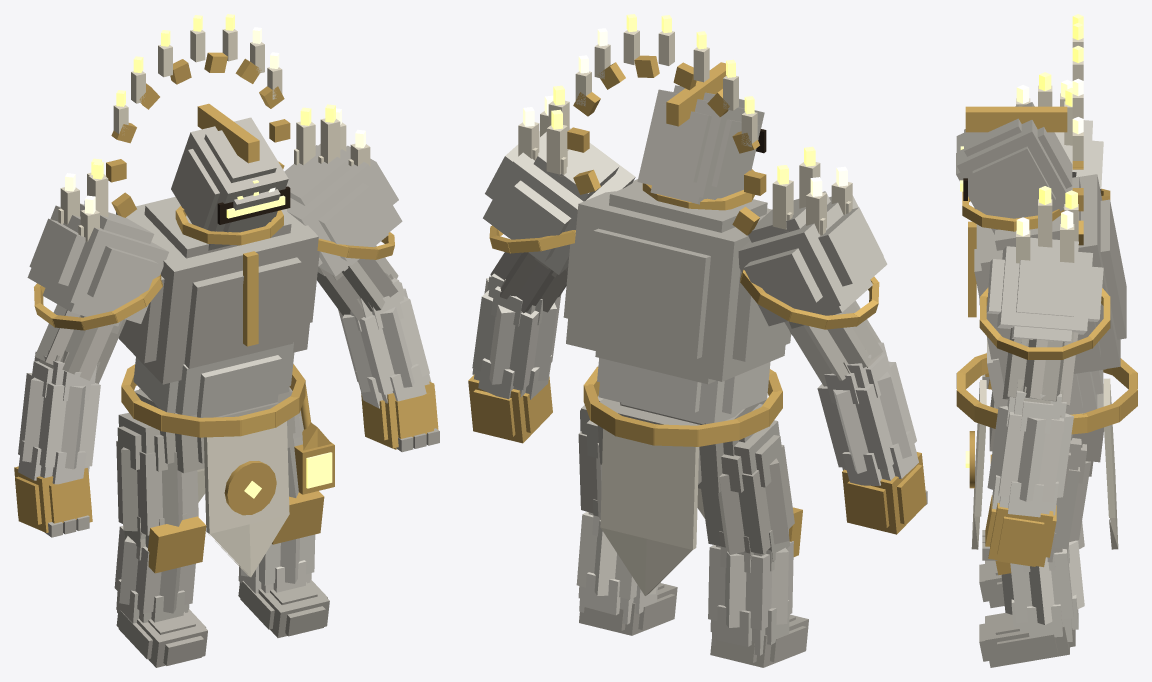
3 renders of one model, left to right at view 1: azimuth 30°, elevation 25°; view 2: azimuth 150°, elevation 25°; view 3: azimuth 270°, elevation 25°, orthographic. The views are drawn at different scales.
Visible parts, largest first — view 1: VigilWarden; view 2: VigilWarden; view 3: VigilWarden.
Boxes of the visible parts, x1,y1,x2,y2 form: VigilWarden: (14,14,439,667); VigilWarden: (468,14,927,667); VigilWarden: (956,14,1137,667).
Size of the model in its own units: 1.19 by 1.68 by 0.4616.
